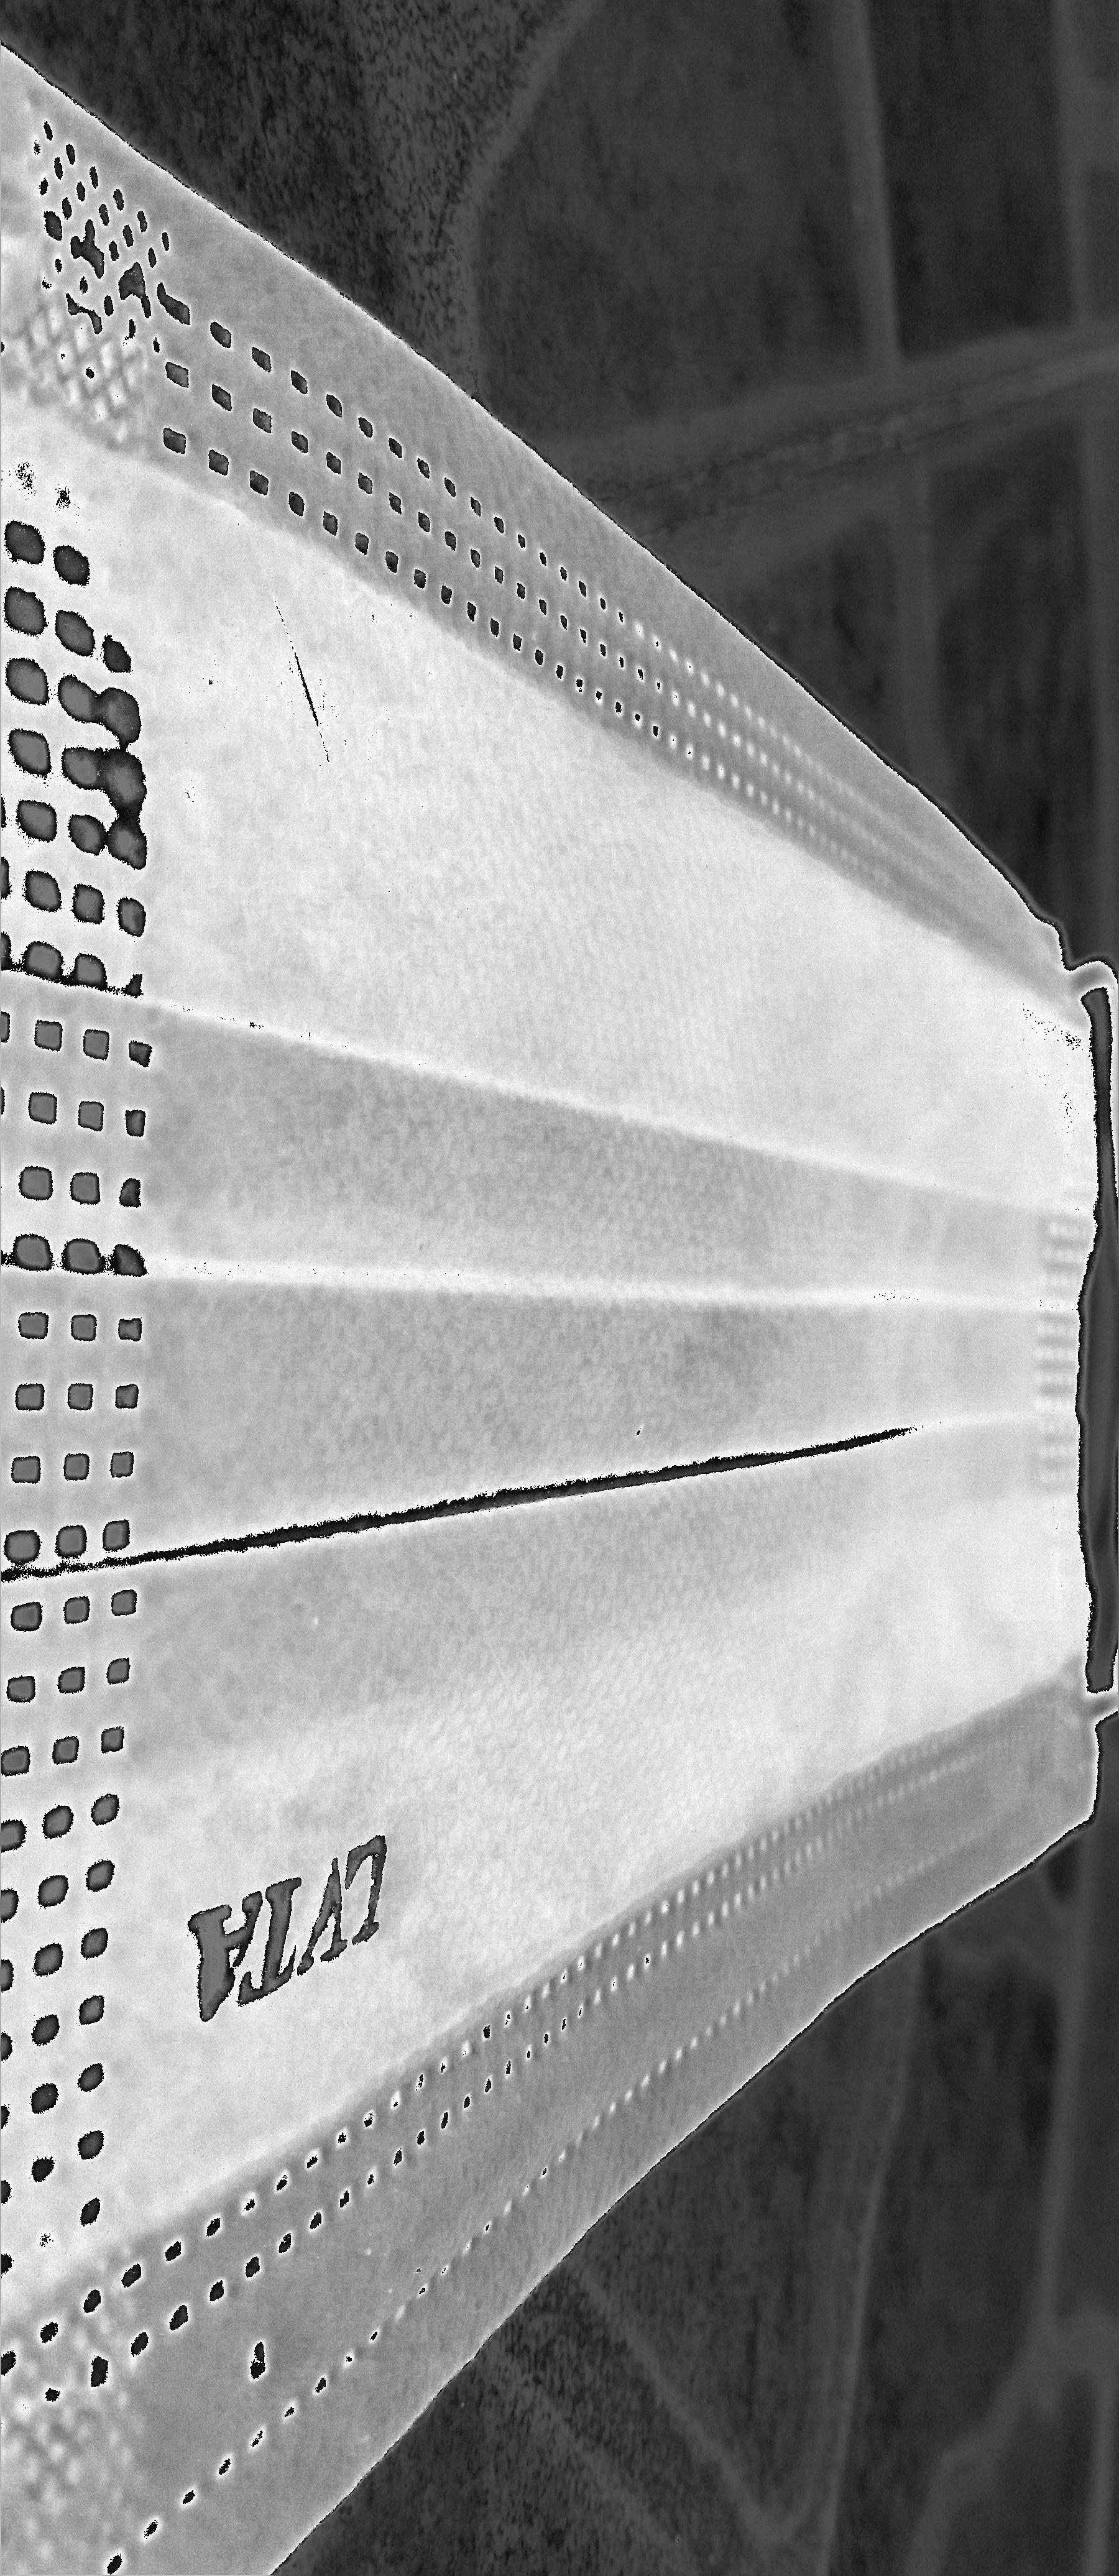High GSM: (154, 583, 1012, 2039)
